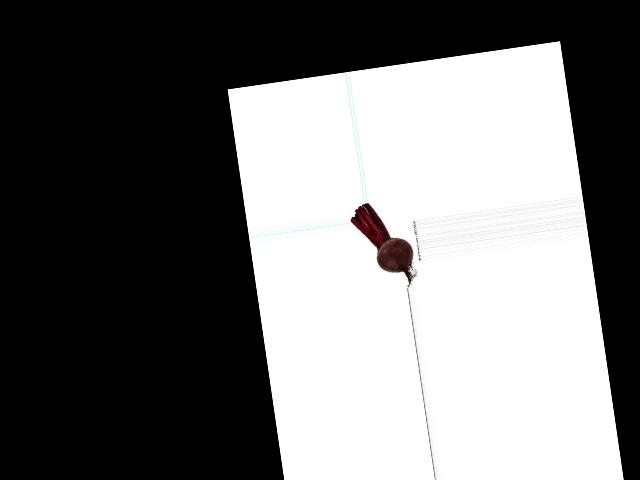beet: (349, 197, 417, 293)
